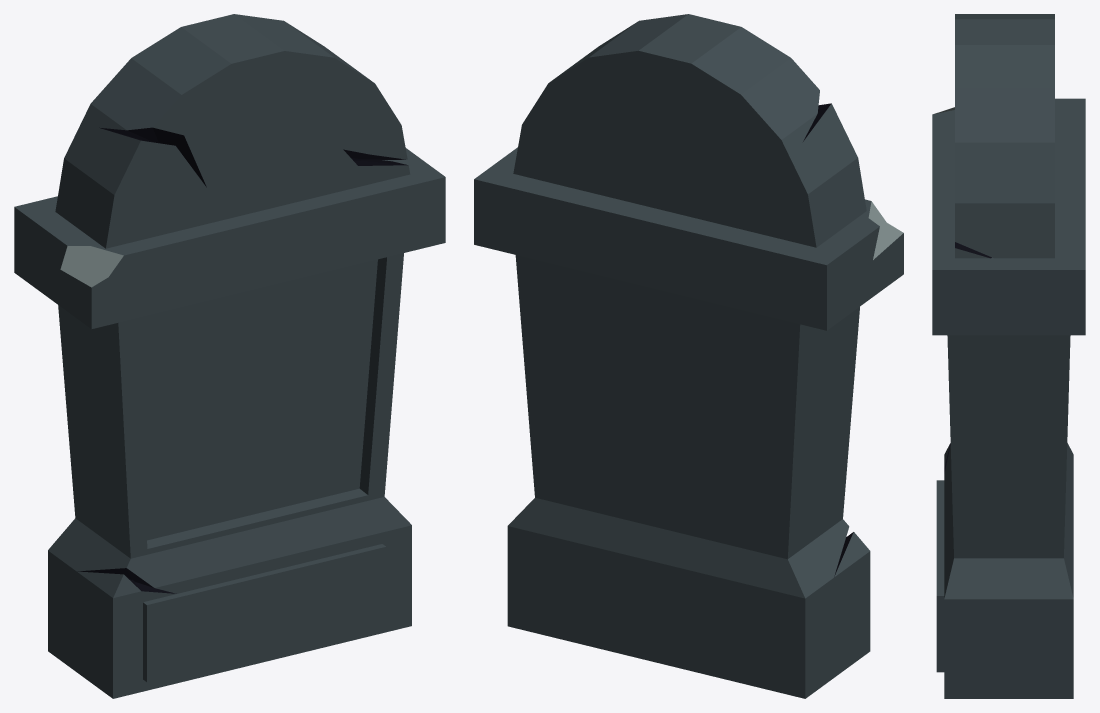
Rendered from KUBURAN 5.fbx.
3 views of the same model, side by side, from view 1: azimuth 30°, elevation 25°; view 2: azimuth 150°, elevation 25°; view 3: azimuth 270°, elevation 25° (orthographic).
Visible parts, largest first — view 1: Circle.002; view 2: Circle.002; view 3: Circle.002.
Boxes of the visible parts, bbox=[...] form: Circle.002: bbox=[14, 14, 445, 698]; Circle.002: bbox=[474, 14, 903, 698]; Circle.002: bbox=[932, 14, 1085, 698].
Size of the model in its own units: 264 by 428 by 99.93.
